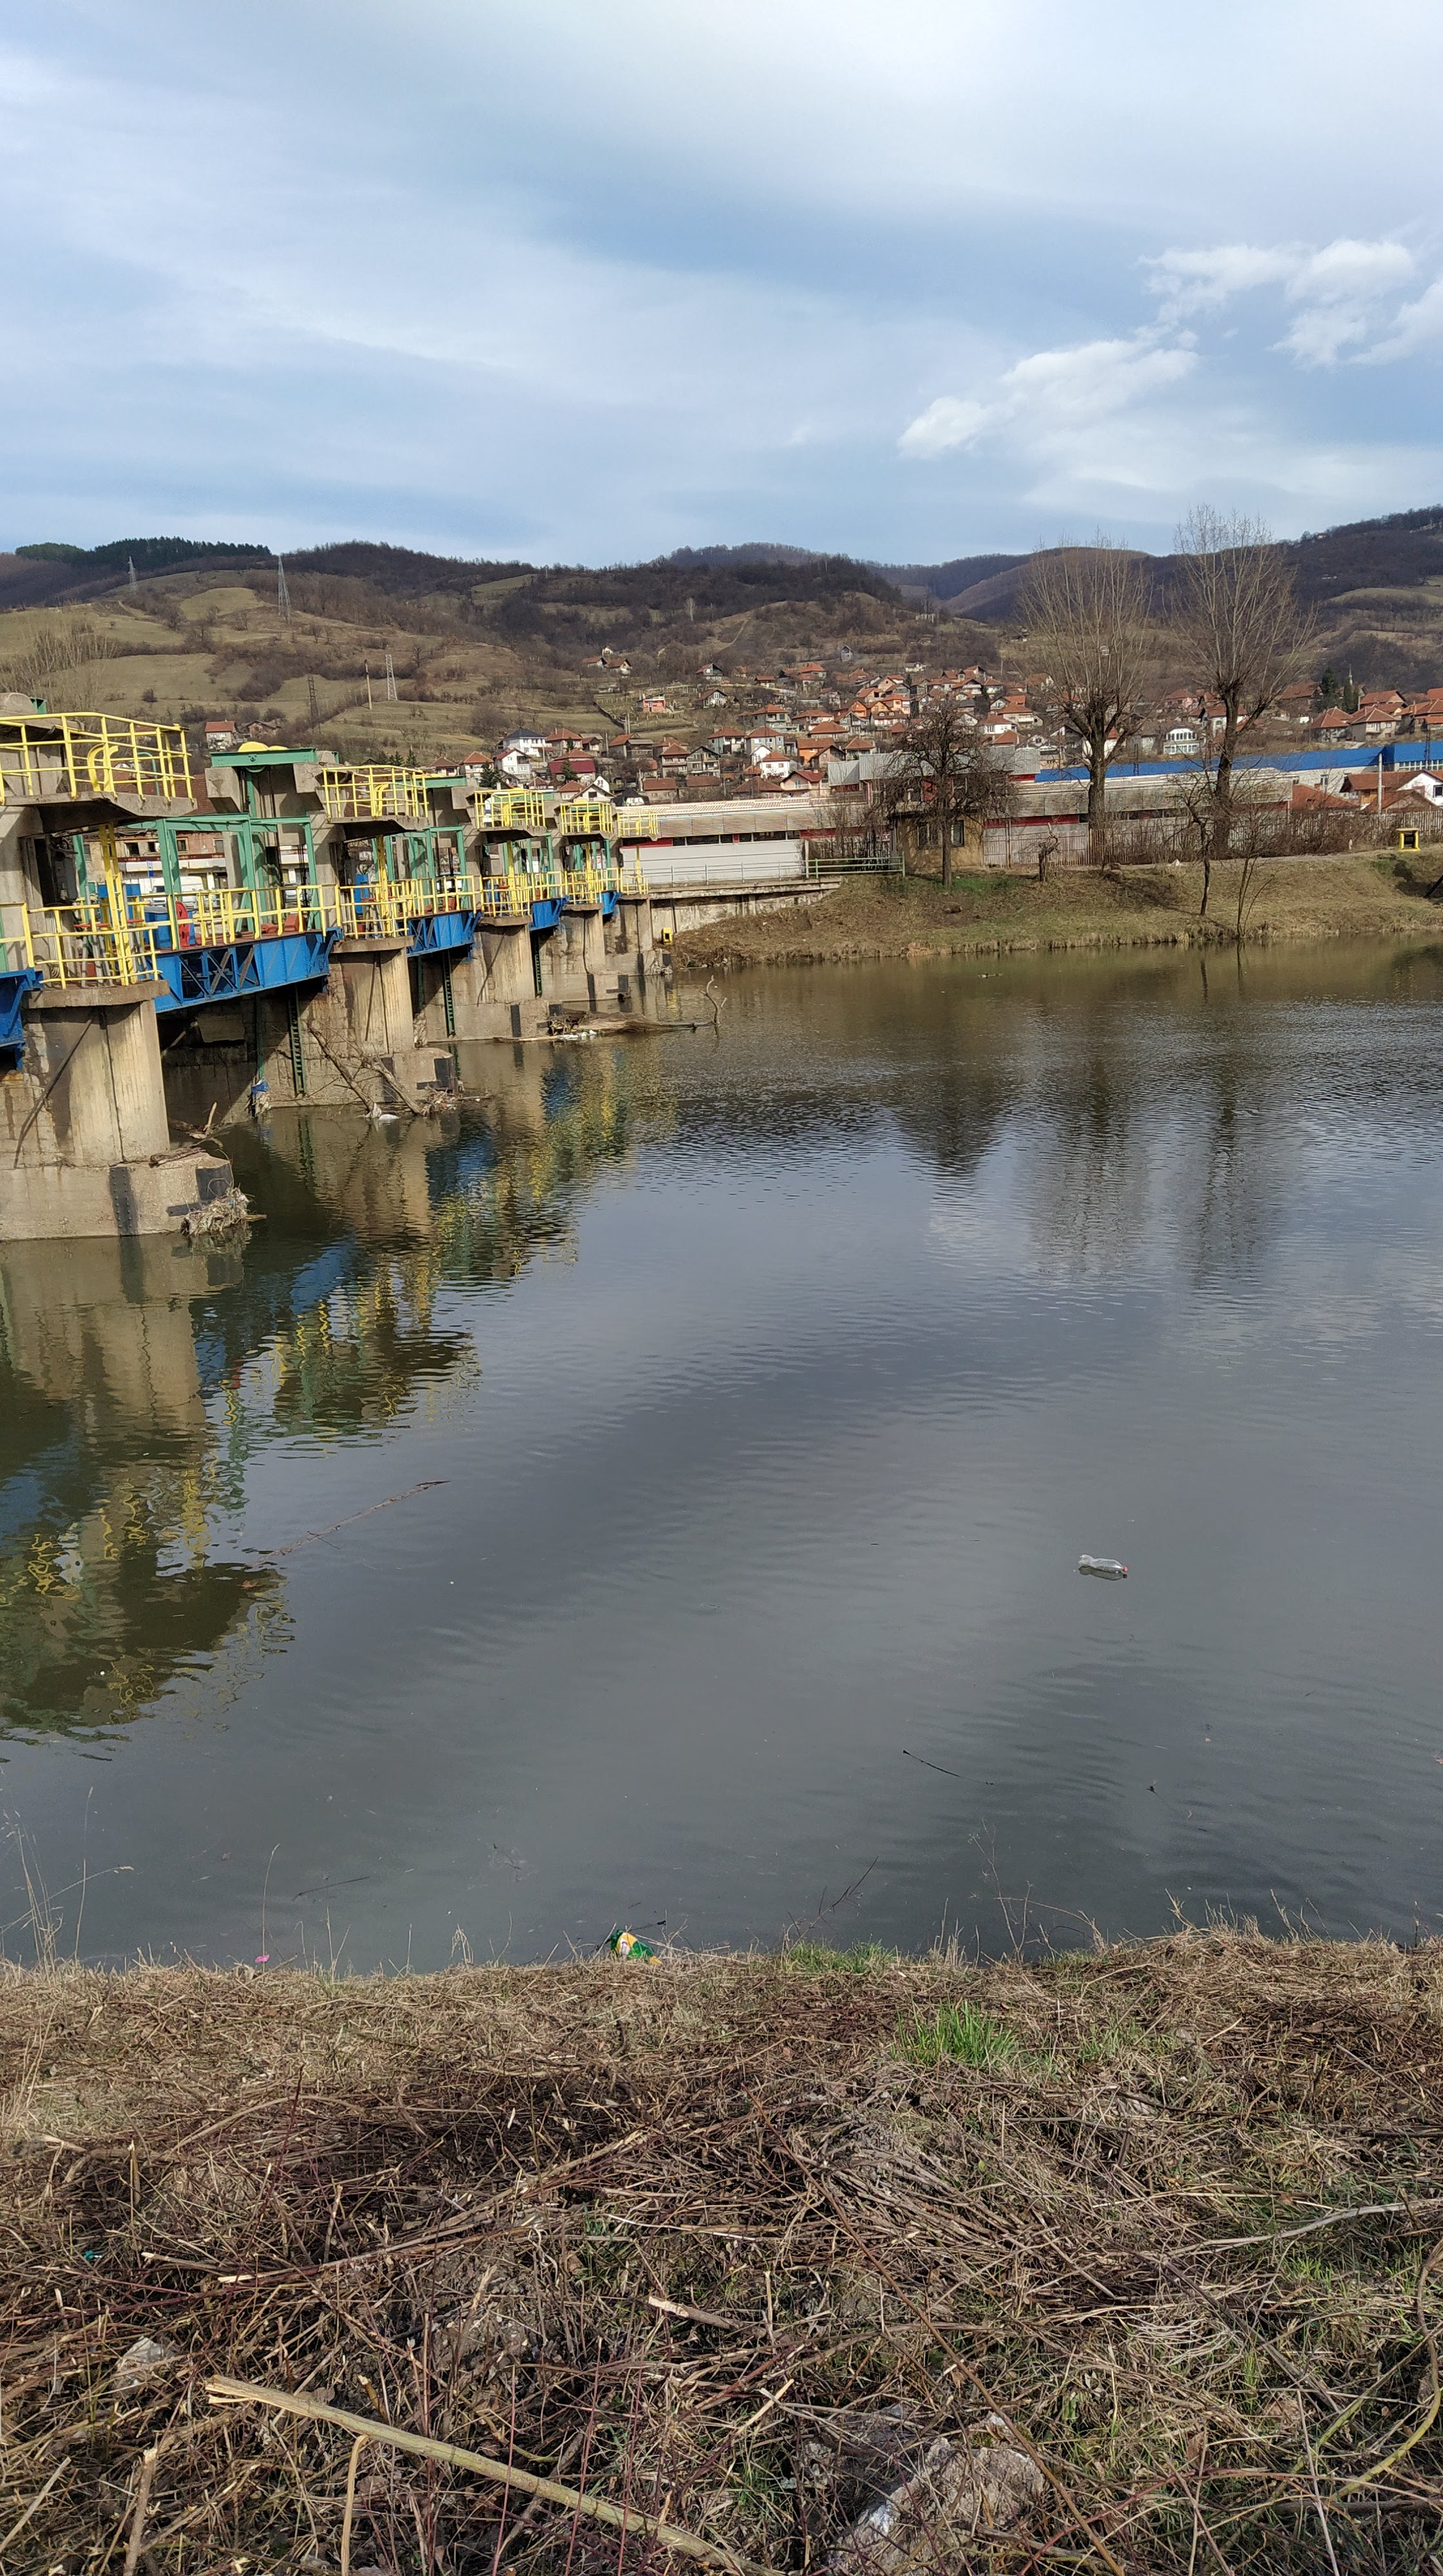Plastic Bottle: (611, 1930, 662, 1966), (1076, 1553, 1126, 1573)
